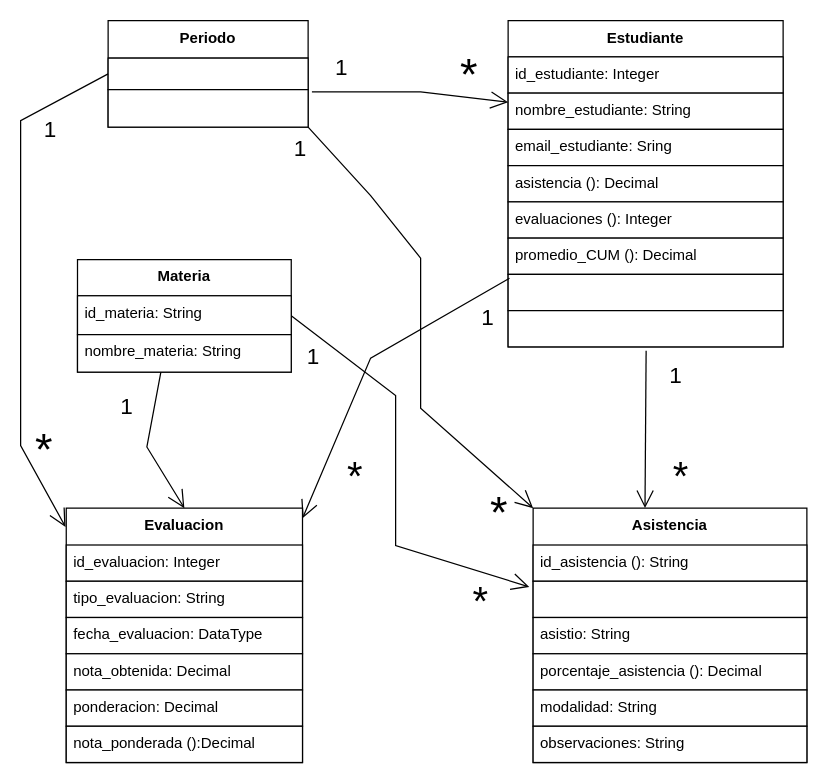
This 828x783 diagram has some shape labels left out. Here are the shapes that lost their labels. From the top down, the centre of each, then its label:
[207,73]: nombre_periodo: String
[207,107]: id_periodo: String
[645,292]: fecha_ultimo_reporte (): DataType
[645,328]: estado (): String
[669,599]: fecha_sesion: DataType
